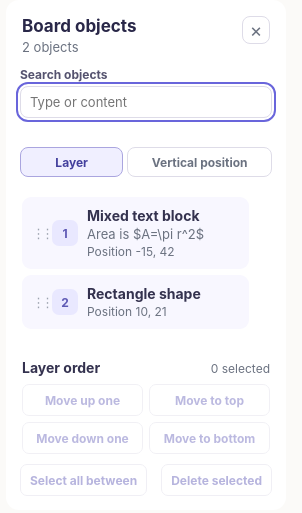
Test: ObjectNavigator › searches object types and mixed-text content without changing the board
In the search field labelled "Search objects": [146, 102] box top-left (20, 86), bottom-right (272, 118), type "pi r^2"
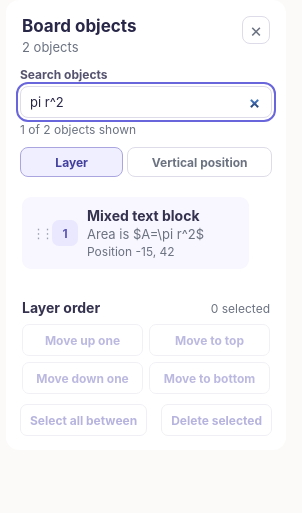
Expected: the button named "Mixed text block, object 1, position -15, 42" is shown, top-left (22, 197), bottom-right (249, 269)
Now the text "1 of 2 objects shown" is shown, box top-left (20, 122), bottom-right (136, 137)
Replace the text in the search field labelled "Search objects" with "rectangle": [146, 102] box top-left (20, 86), bottom-right (272, 118)
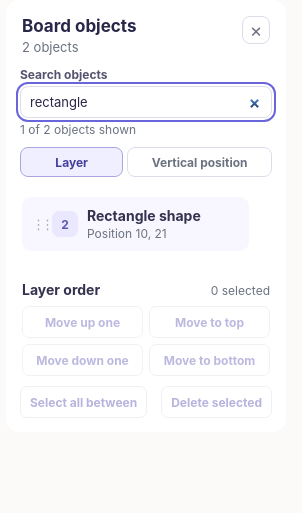
Now the button named "Rectangle shape, object 2, position 10, 21" is shown, box top-left (22, 197), bottom-right (249, 251)
Replace the text in the search field labelled "Search objects" with "photograph": [146, 102] box top-left (20, 86), bottom-right (272, 118)
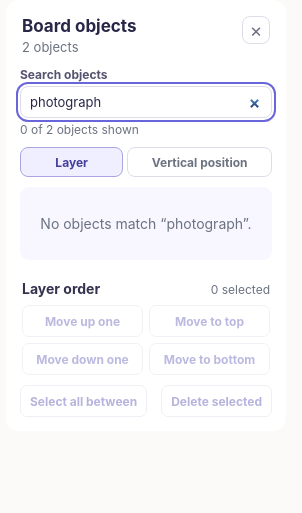
Now the text "No objects match “photograph”." is shown, box top-left (20, 187), bottom-right (272, 260)
